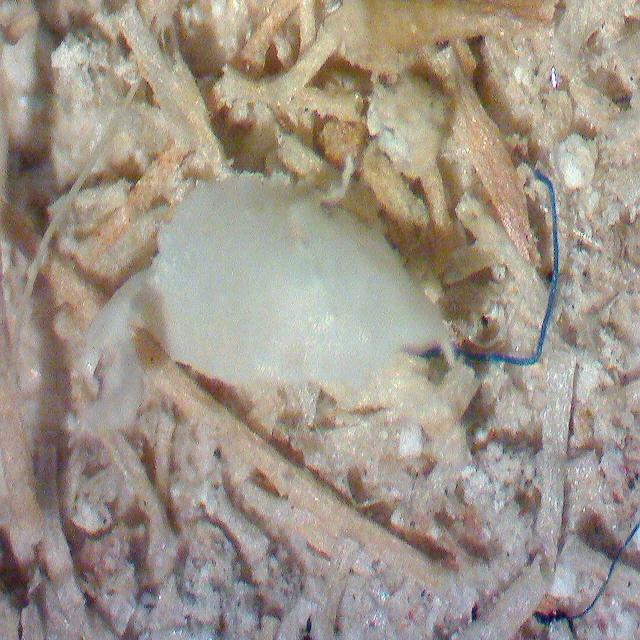microplastic: (76, 171, 457, 431)
